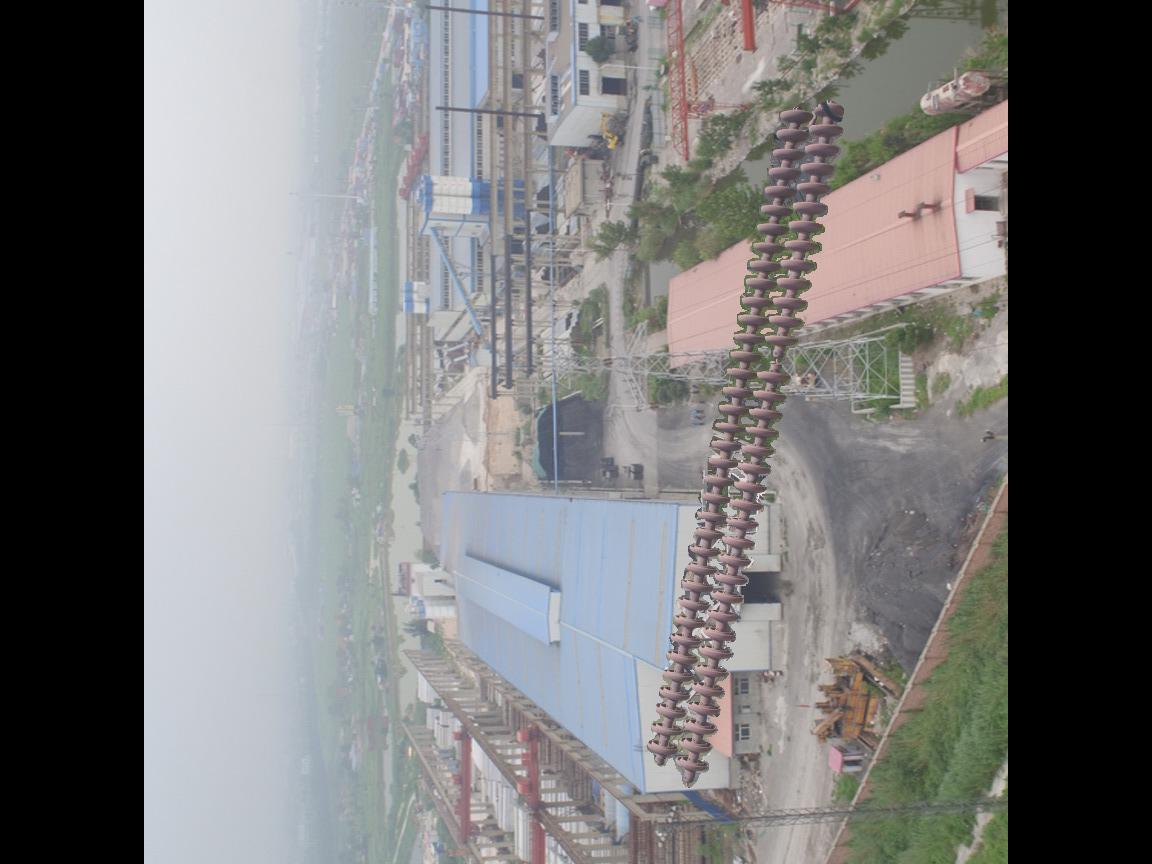insulator: (645, 98, 851, 788)
insulator_stringdrop: (753, 330, 803, 387)
